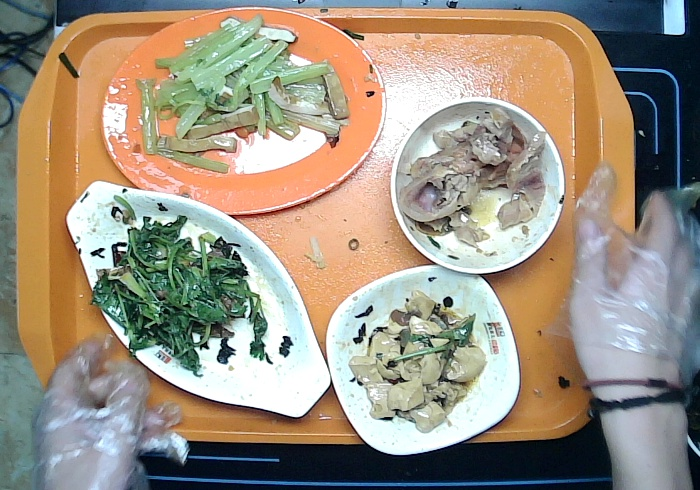NLDX-Bai_Se_Xiao_Fang_Die: (322, 259, 523, 459)
NLDX-Fan_Wan: (387, 95, 568, 278)
NLDX-Ju_Se_Pan: (97, 6, 388, 218)
NLDX-Yu_Pan: (62, 177, 334, 422)
